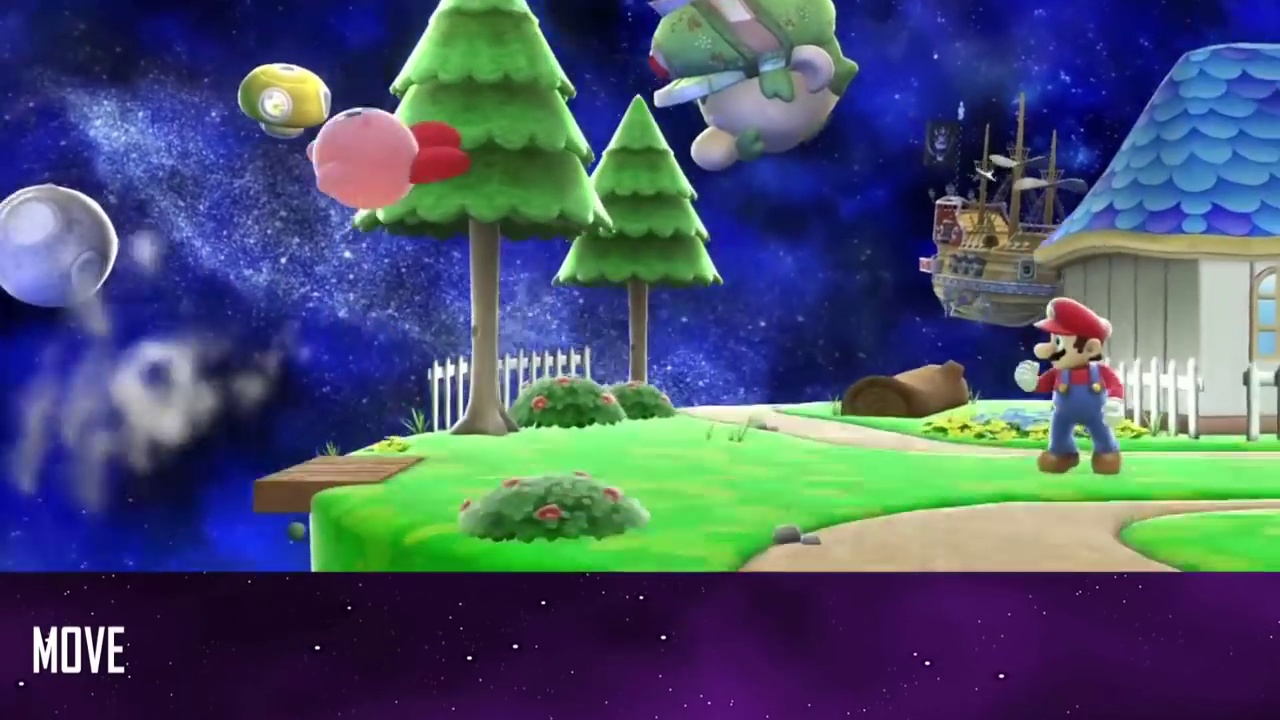Mario: (1014, 297, 1128, 476)
